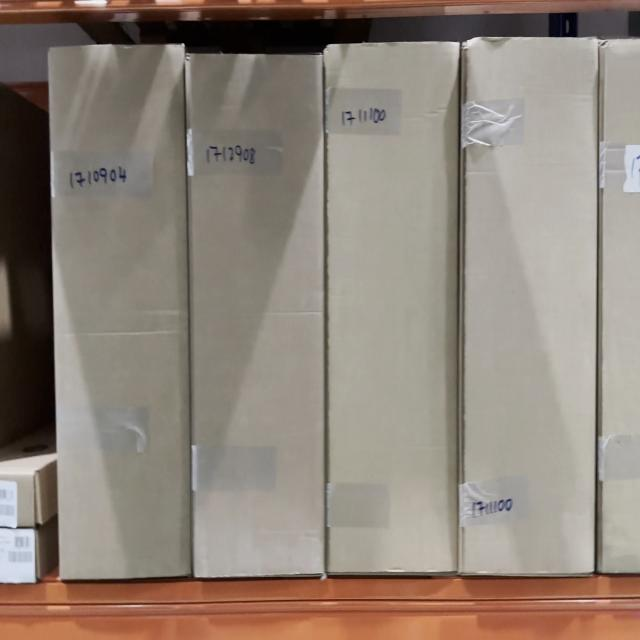box: (465, 44, 593, 572), (328, 50, 457, 571), (193, 56, 322, 577), (58, 48, 183, 574)
